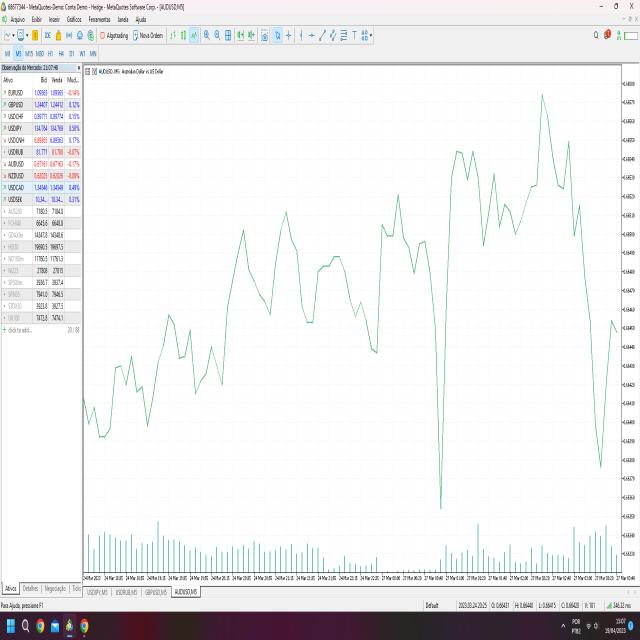fundo_duplo: (189, 321, 232, 402)
